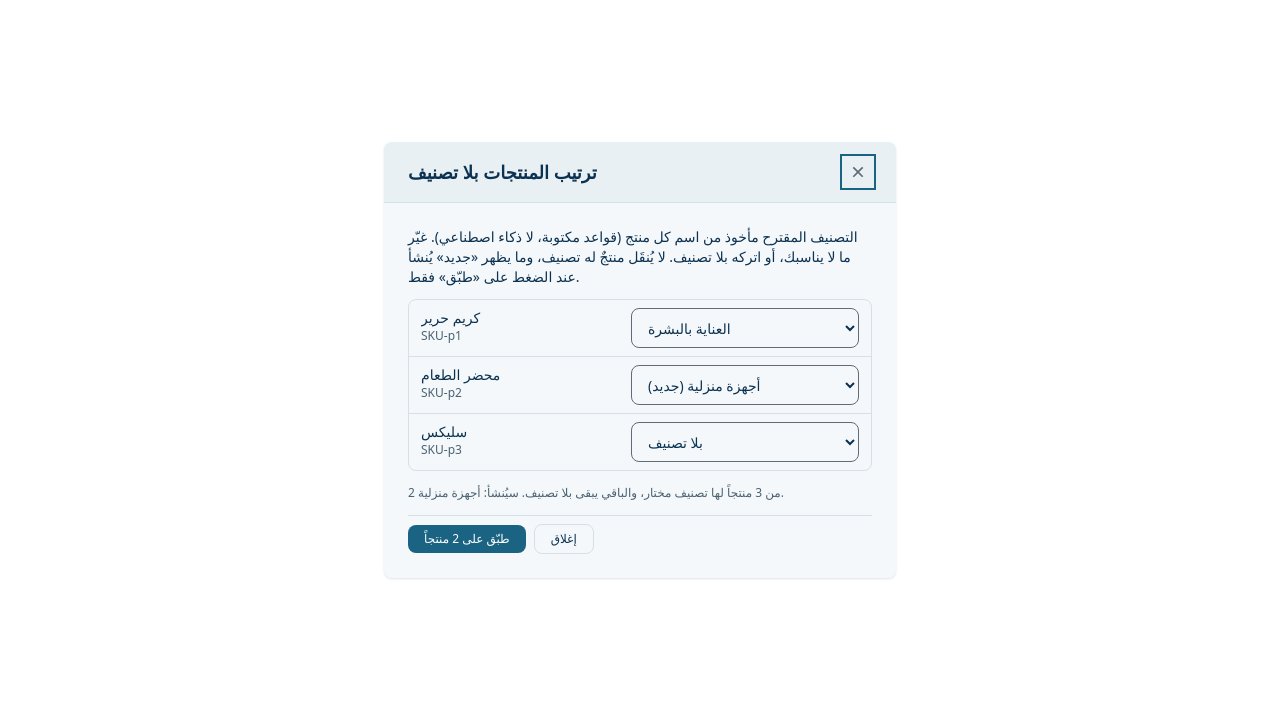
it: when something goes wrong › — the door’s sentence is shown, the dialog stays, and the press can be made again
Check: the dropdown named "تصنيف كريم حرير" is shown, box [631,308,859,348]
What coordinates should you click on to do the following:
click the button "طبّق على 2 منتجاً"
I would click on:
 (467, 539)
Its box is [408,525,526,553].
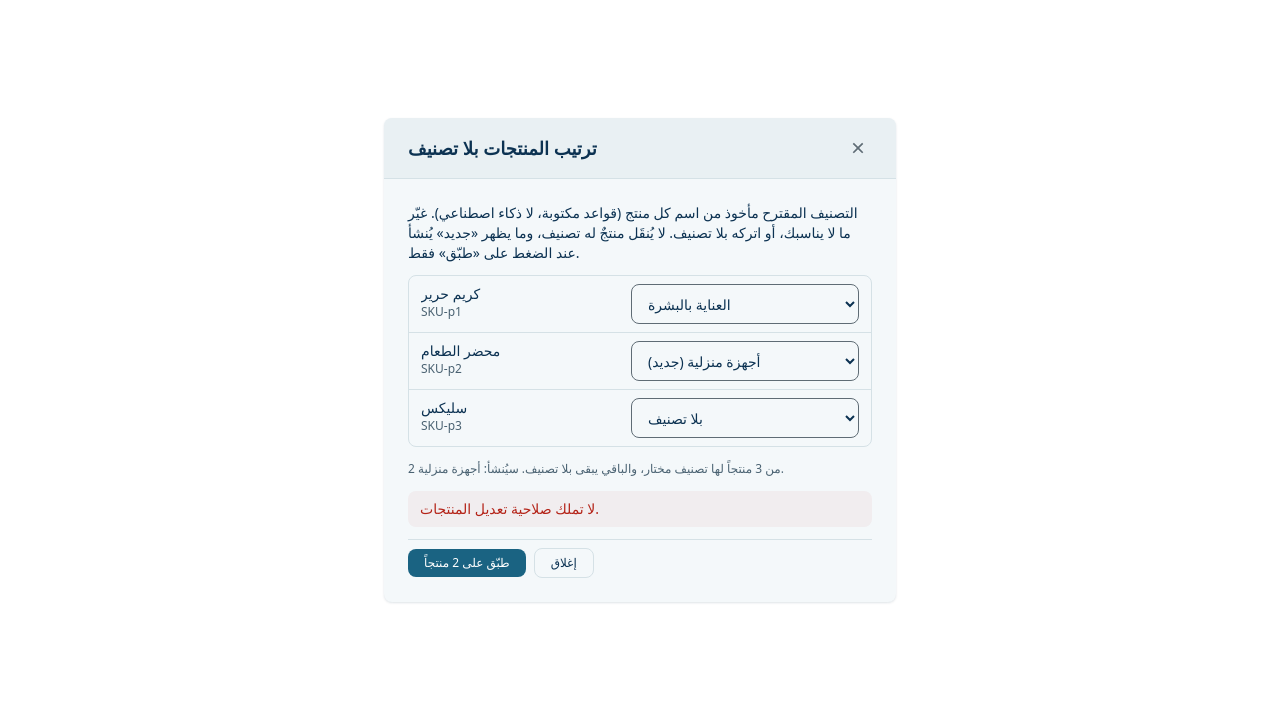
Check: the text "لا تملك صلاحية تعديل المنتجات." is shown, box [408,491,872,527]
What coordinates should you click on to do the following:
click the button "طبّق على 2 منتجاً"
I would click on:
 (467, 563)
Its box is [408,549,526,577].
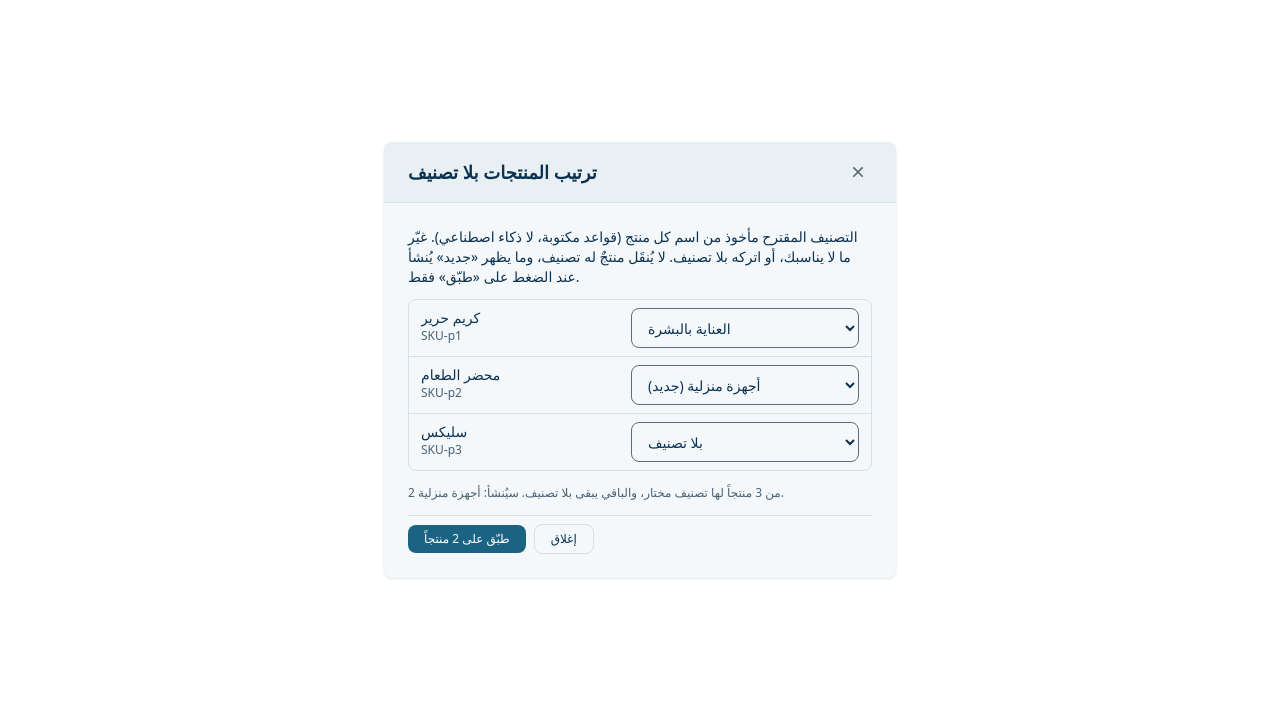
Check: the text "لا تملك صلاحية تعديل المنتجات." is gone
